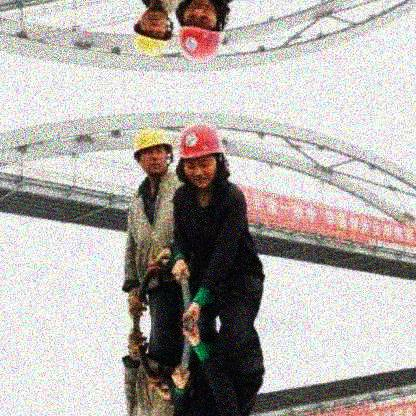helmet: (177, 120, 226, 190), (175, 1, 225, 61), (132, 7, 173, 59), (131, 128, 173, 176)
